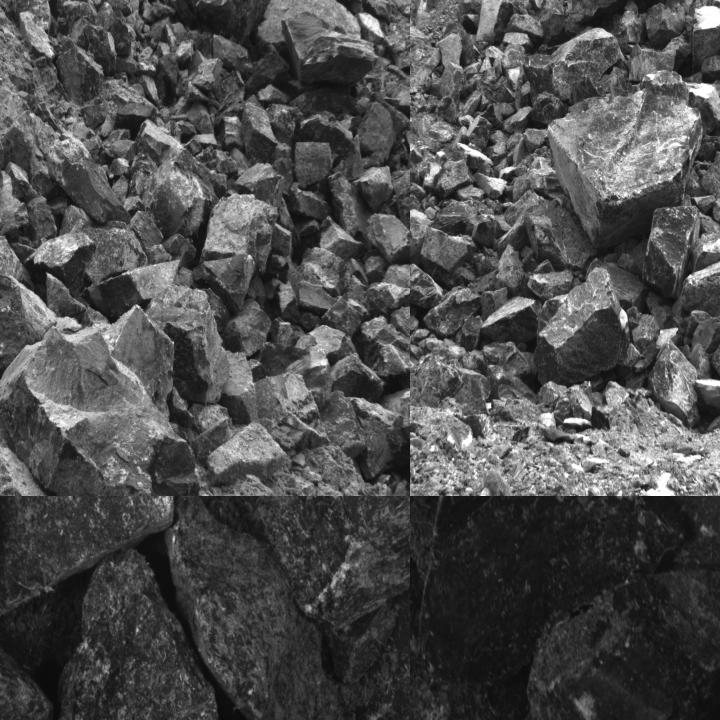stone: (410, 496, 689, 678), (163, 496, 345, 719), (0, 325, 204, 495), (54, 549, 234, 719), (523, 568, 719, 719), (549, 68, 703, 248), (0, 496, 181, 622), (260, 496, 409, 623), (122, 118, 228, 247), (534, 269, 630, 386), (143, 284, 229, 404), (410, 642, 531, 719), (524, 26, 621, 110), (48, 138, 132, 224), (282, 11, 378, 85), (59, 205, 148, 283), (100, 313, 175, 401), (0, 268, 58, 379), (200, 195, 278, 273), (254, 371, 330, 450), (84, 259, 180, 320), (0, 618, 57, 719), (257, 0, 362, 54), (525, 194, 597, 270), (643, 205, 700, 299), (346, 396, 409, 481), (410, 358, 491, 419), (208, 422, 286, 484), (23, 232, 96, 297), (647, 336, 700, 425), (176, 0, 271, 45), (562, 0, 668, 38), (192, 254, 256, 315), (179, 402, 232, 470), (421, 227, 477, 290), (355, 315, 409, 377), (586, 258, 646, 312), (319, 390, 366, 458), (58, 38, 105, 106), (423, 285, 482, 339), (328, 173, 370, 248), (628, 36, 691, 86), (67, 19, 117, 79), (0, 433, 48, 495), (219, 350, 258, 424), (669, 261, 719, 318), (481, 297, 544, 341), (331, 352, 386, 402), (221, 299, 270, 355), (10, 0, 55, 58), (299, 247, 351, 297), (241, 95, 277, 166), (357, 102, 396, 167), (346, 275, 409, 315), (512, 155, 563, 204), (293, 325, 356, 364), (128, 210, 172, 265), (234, 163, 284, 208), (366, 213, 409, 265), (689, 5, 719, 76), (483, 340, 536, 380), (294, 142, 338, 188), (0, 170, 29, 238), (353, 165, 393, 214), (0, 235, 35, 291), (320, 216, 364, 260), (628, 310, 659, 372), (45, 272, 87, 317), (645, 3, 687, 48), (429, 200, 480, 236), (475, 0, 516, 44), (194, 417, 230, 466), (331, 298, 371, 341), (410, 264, 446, 311), (437, 63, 464, 124), (433, 158, 473, 198), (288, 184, 331, 221), (213, 34, 248, 78), (26, 195, 57, 243), (528, 270, 574, 301), (4, 162, 40, 201), (161, 233, 196, 272), (333, 136, 363, 180), (188, 402, 230, 433), (296, 281, 336, 313), (532, 93, 566, 129), (8, 235, 48, 264), (699, 141, 719, 198), (115, 103, 158, 129), (410, 209, 429, 266), (465, 116, 492, 154), (356, 12, 384, 45), (684, 311, 710, 345), (390, 305, 409, 351), (395, 168, 409, 230), (34, 101, 61, 133), (381, 263, 409, 293), (271, 223, 291, 257), (502, 32, 535, 52), (501, 46, 528, 70), (664, 0, 708, 14), (257, 85, 290, 103), (410, 183, 424, 220), (56, 316, 81, 334), (112, 176, 128, 204), (175, 266, 195, 288), (247, 359, 266, 382), (47, 196, 68, 215), (124, 195, 144, 210), (358, 0, 375, 6)
